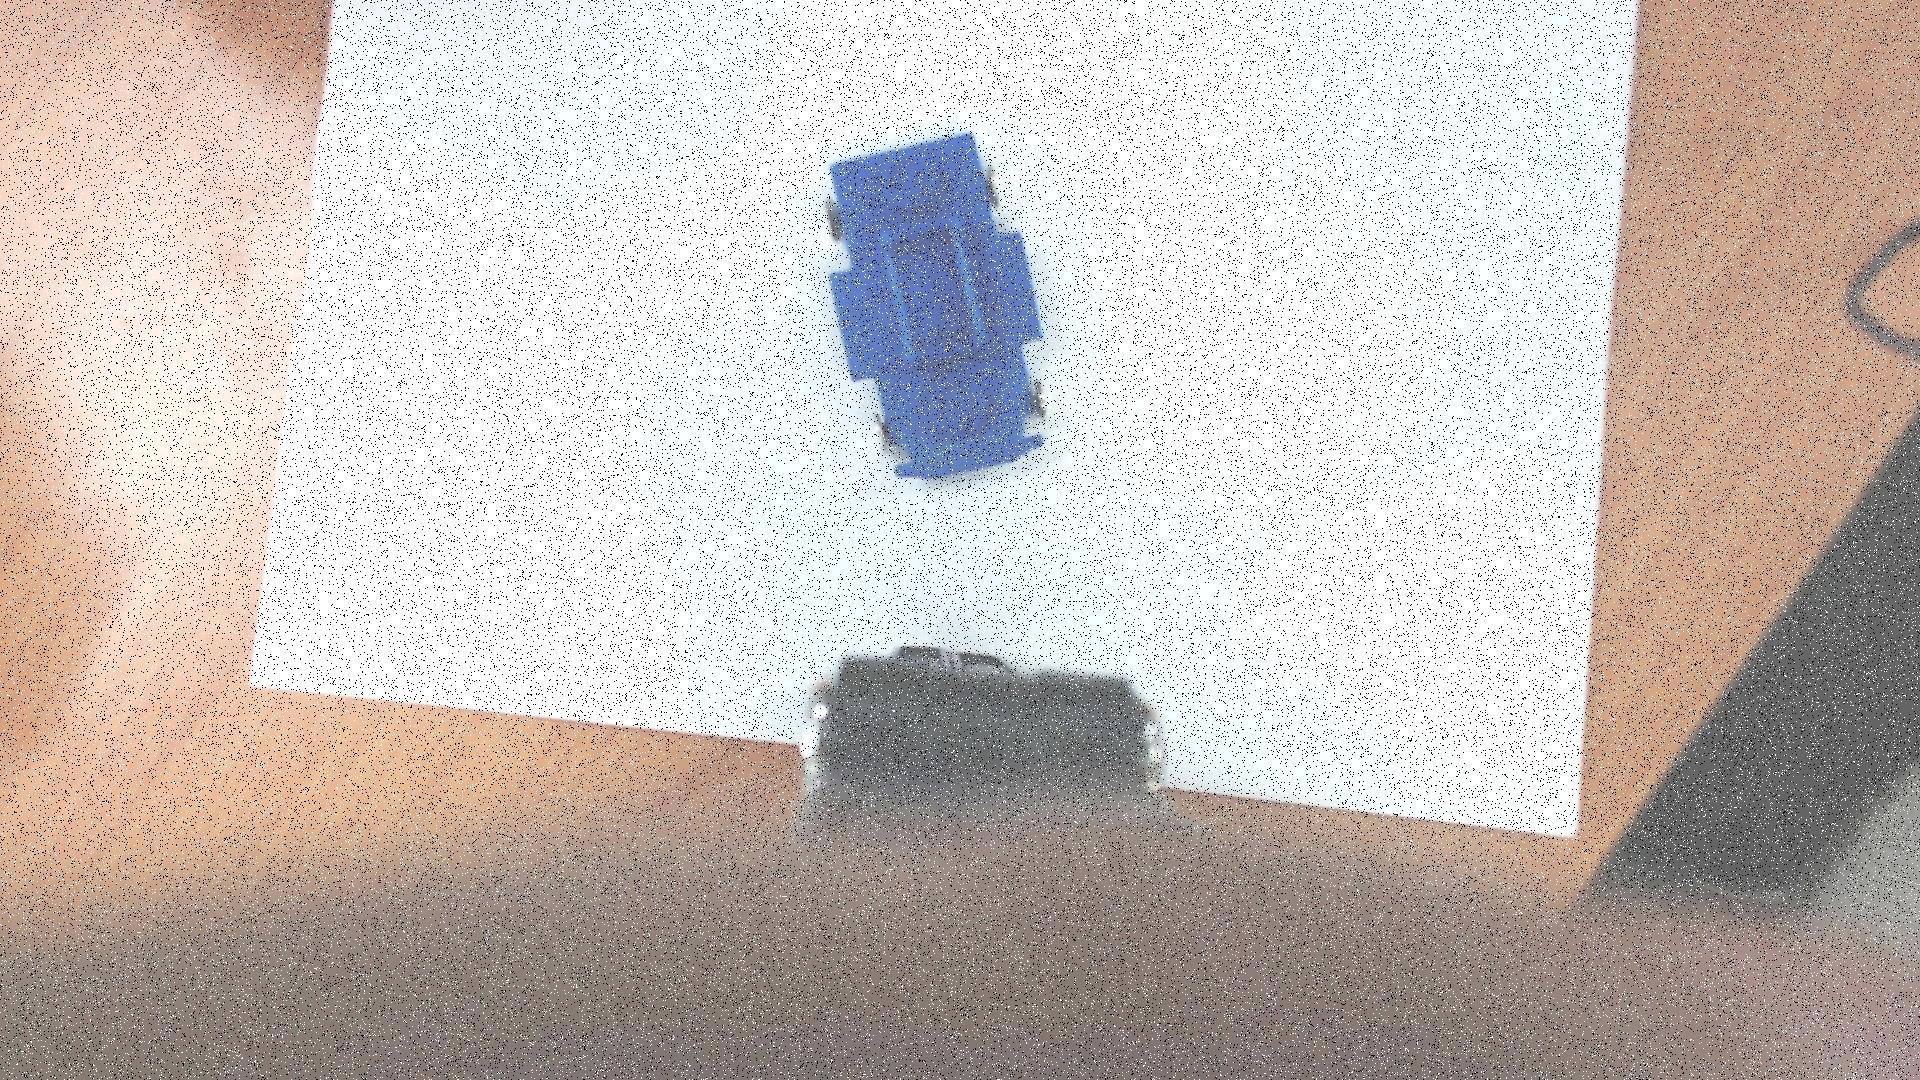lower_ng: (870, 206, 1001, 380)
